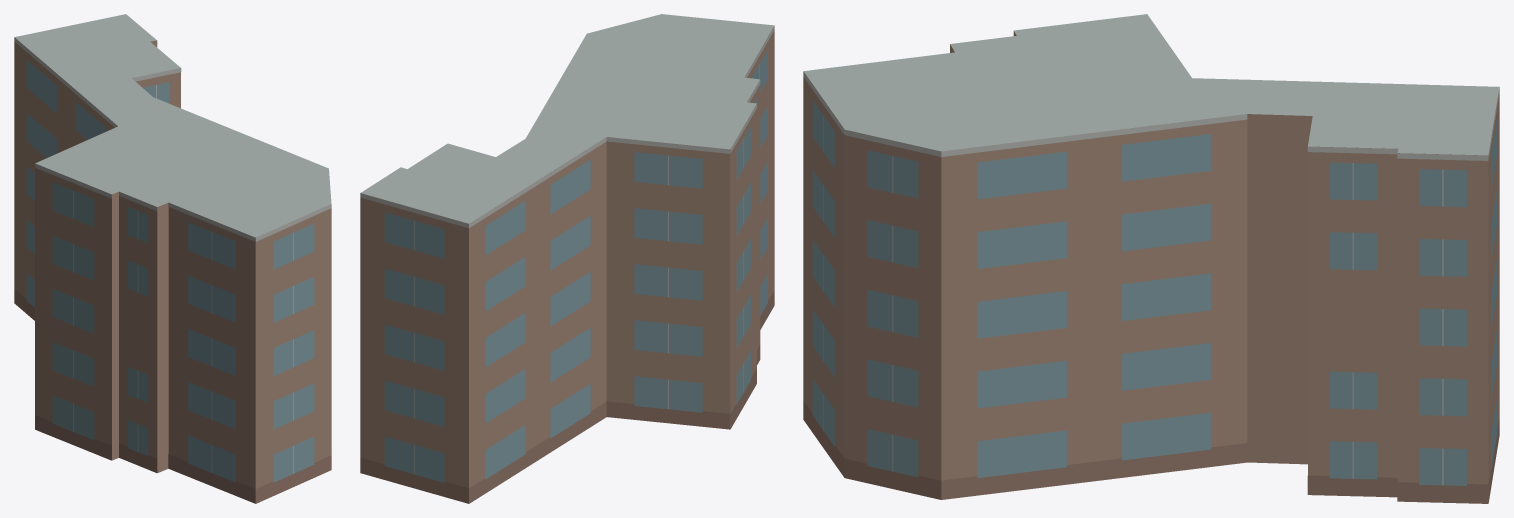
File: survey-upis-32970645.glb
3 renders of one model, left to right at view 1: azimuth 30°, elevation 25°; view 2: azimuth 150°, elevation 25°; view 3: azimuth 270°, elevation 25°, orthographic. The views are drawn at different scales.
Parts seen in each view (by area): view 1: survey-upis-32970645.tmp; view 2: survey-upis-32970645.tmp; view 3: survey-upis-32970645.tmp.
Part boxes in pixels (x1=…): survey-upis-32970645.tmp: x1=14, y1=14, x2=331, y2=503; survey-upis-32970645.tmp: x1=360, y1=14, x2=774, y2=503; survey-upis-32970645.tmp: x1=803, y1=14, x2=1499, y2=503.
Size of the model in its own units: 13.28 by 15.25 by 27.62.
